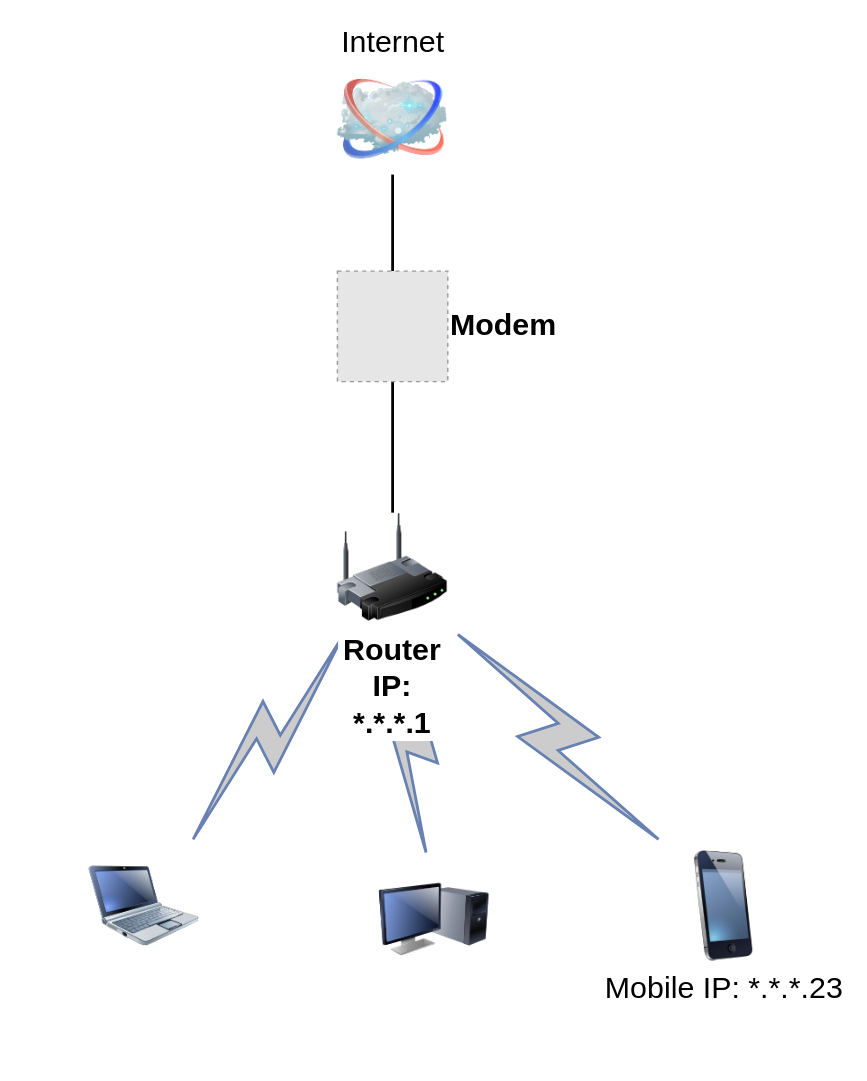
Image size: 867x1081. Some labels were removed from this diagram. Grey dashed boxes stand in for pictures. The shapes that lost their labels are listed below. From the top down, each one's centre as x and y in pixels, then its label:
the point at 143,905: Laptop IP: *.*.*.58
the point at 433,919: Desktop IP: *.*.*.53
